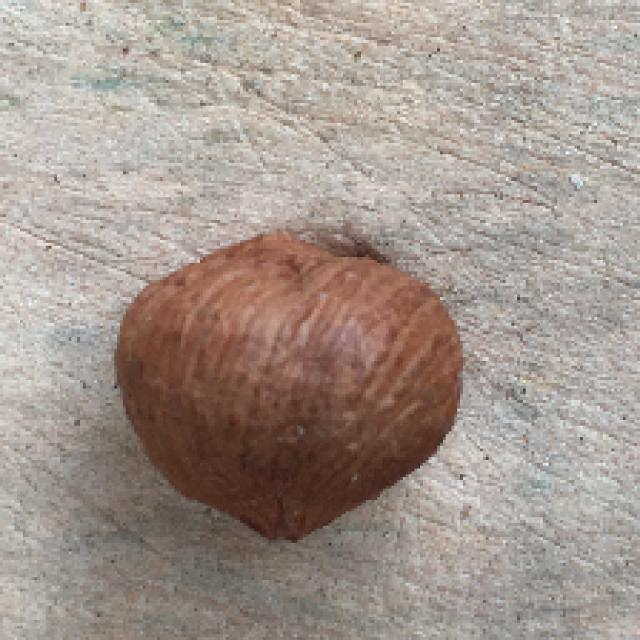hazelnut: (112, 230, 451, 508)
